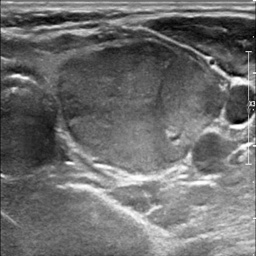mass: (60, 49, 218, 165)
